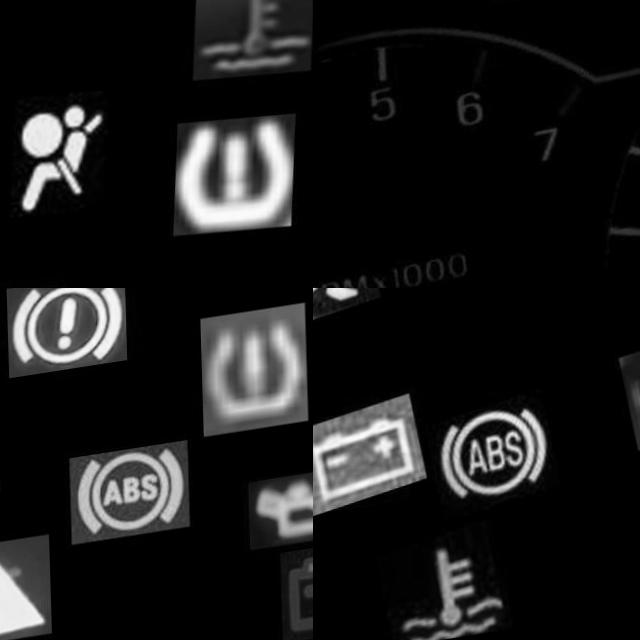Central Warning lamp: (0, 540, 48, 640)
Engine cooling system: (371, 523, 509, 640), (187, 0, 313, 104)
